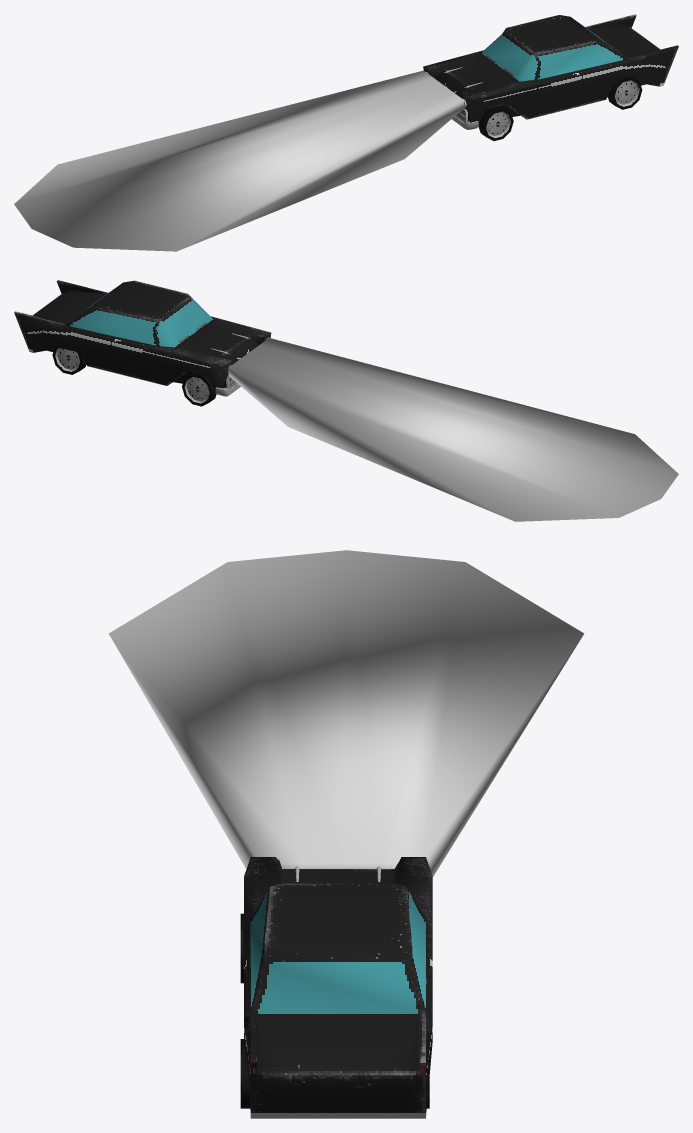
Rendered from Chevrolet.glb.
3 views of the same model, one above another, from view 1: azimuth 30°, elevation 25°; view 2: azimuth 150°, elevation 25°; view 3: azimuth 270°, elevation 25° (orthographic). The views are drawn at different scales.
Parts seen in each view (by area): view 1: light, car, wheelF1, wheelB1; view 2: light, car, wheelF2, wheelB2; view 3: light, car.
Part boxes in pixels (x1,y1,x2,y2): light: (14,70,463,251); car: (423,14,678,129); wheelF1: (478,106,513,140); wheelB1: (608,76,642,109); light: (228,338,678,521); car: (14,280,271,396); wheelF2: (182,372,216,406); wheelB2: (52,346,86,374); light: (108,550,584,876); car: (244,857,432,1118).
Size of the model in its own units: 6.05 by 0.6569 by 2.
Materials: 1 (1 with a texture image).
